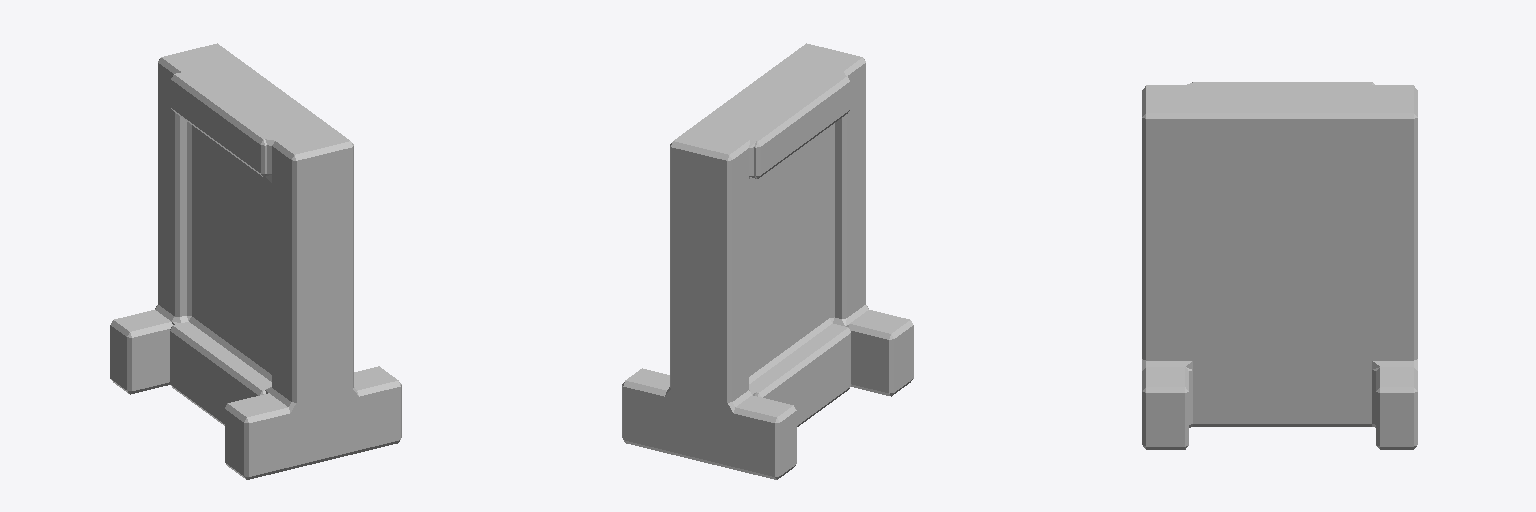
Rendered from tombstone.obj.
3 renders of one model, left to right at view 1: azimuth 30°, elevation 25°; view 2: azimuth 150°, elevation 25°; view 3: azimuth 270°, elevation 25°, orthographic.
Bounding box in the file's own units: 1.55 × 2.94 × 2.34.